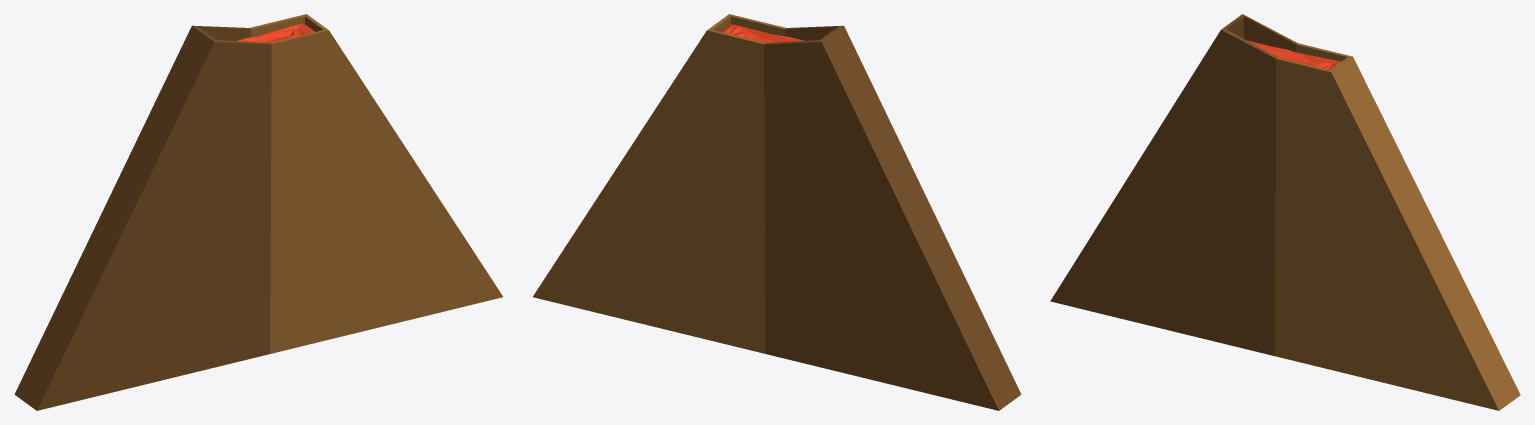
Rendered from mountain-volcano.fbx.
The picture shows the model from 3 angles, left to right: view 1: azimuth 30°, elevation 25°; view 2: azimuth 150°, elevation 25°; view 3: azimuth 330°, elevation 25°; orthographic projection. The views are drawn at different scales.
Parts seen in each view (by area): view 1: Plane; view 2: Plane; view 3: Plane.
Part boxes in pixels (x1,y1,x2,y2): Plane: (14,14,502,410); Plane: (533,14,1021,410); Plane: (1050,14,1520,410).
Bounding box in the file's own units: 120000 × 80000 × 10000.
